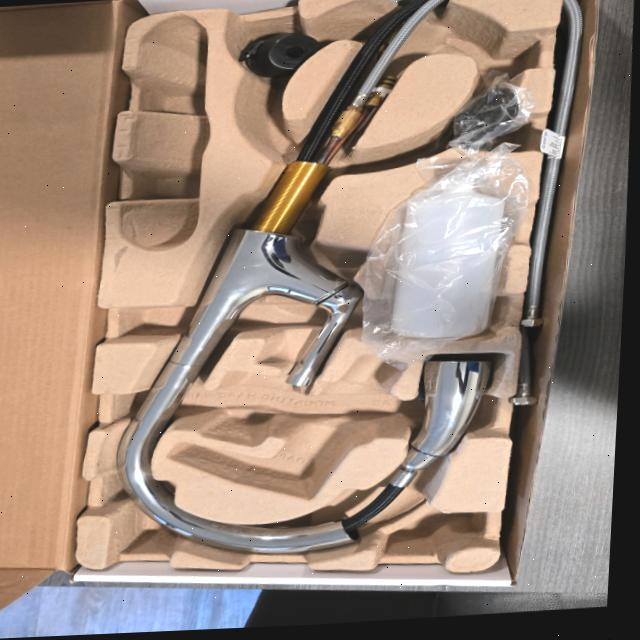1: (114, 0, 495, 552)
2m: (171, 353, 408, 497)
3: (387, 163, 508, 338)
4m: (118, 12, 208, 250)
5: (242, 31, 317, 77)
6m: (441, 10, 541, 77)
7: (441, 77, 532, 152)
